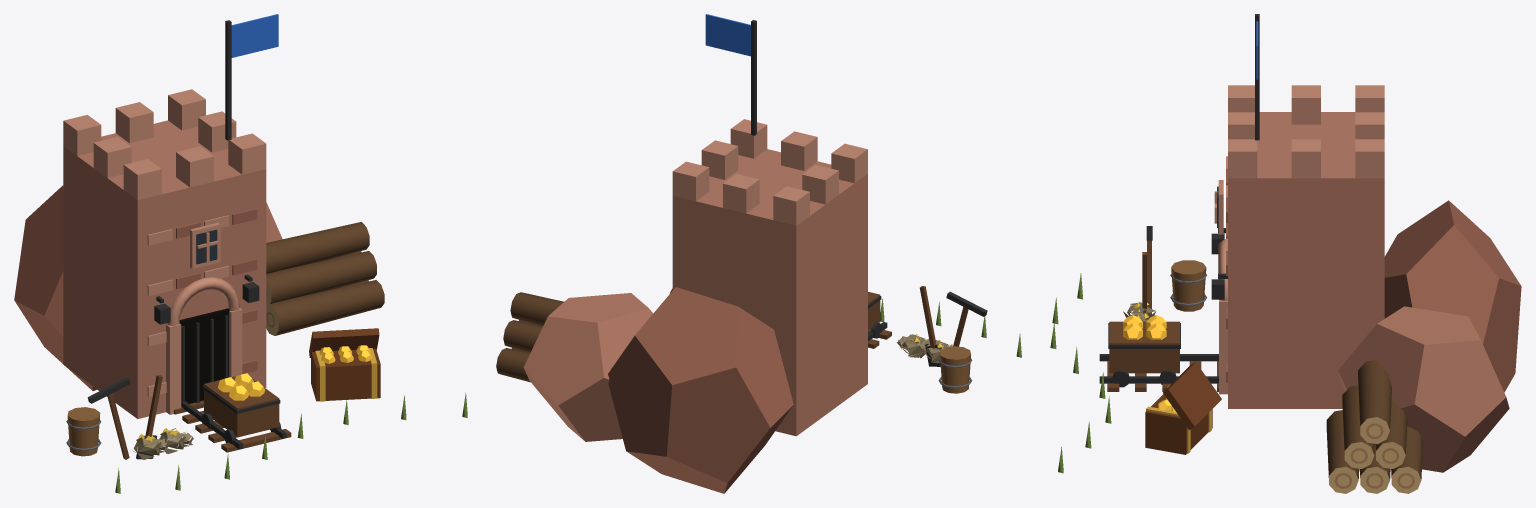
File: goldmine.glb
3 views of the same model, side by side, from view 1: azimuth 30°, elevation 25°; view 2: azimuth 150°, elevation 25°; view 3: azimuth 270°, elevation 25° (orthographic). The views are drawn at different scales.
Bounding box in the file's own units: 4.57 × 4.72 × 4.57.
